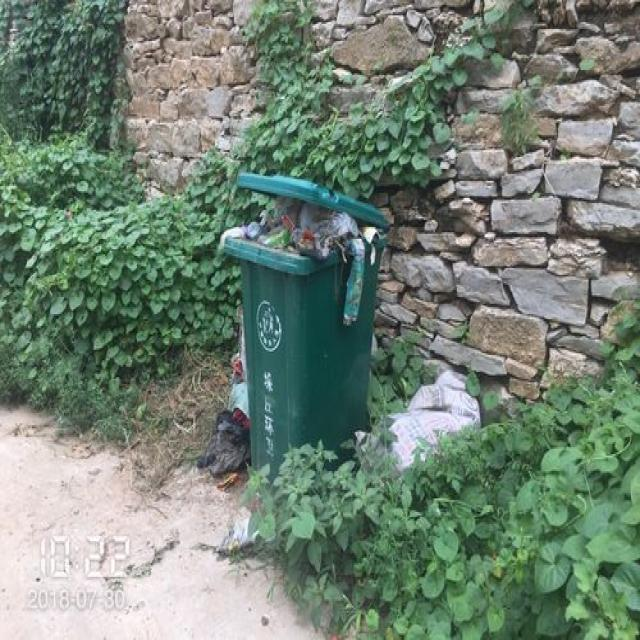garbage: (194, 308, 250, 487)
overflow: (220, 173, 388, 482)
